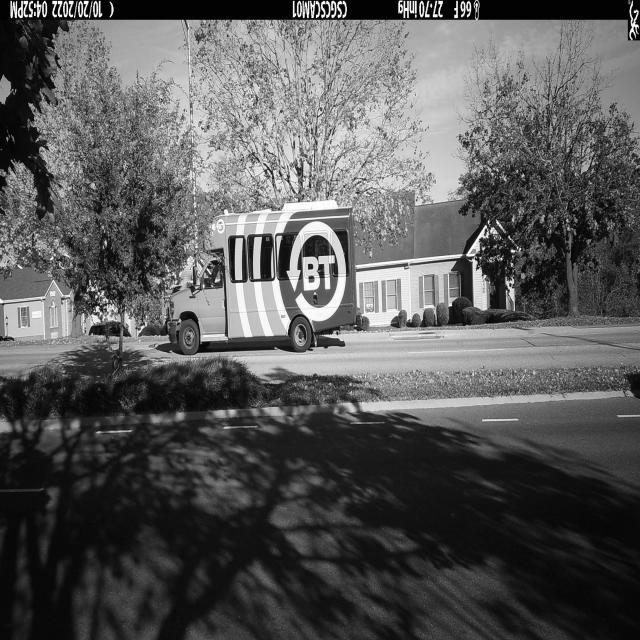Bus- Small: (166, 200, 359, 356)
